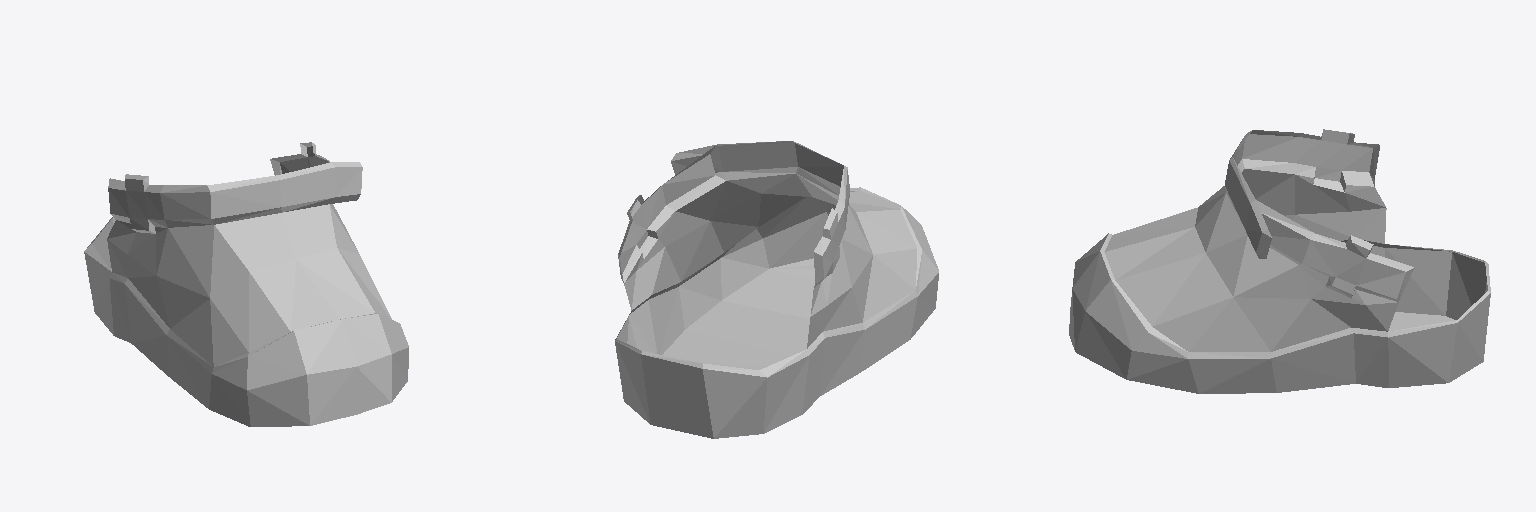
File: hg_foot.obj
3 views of the same model, side by side, from view 1: azimuth 30°, elevation 25°; view 2: azimuth 150°, elevation 25°; view 3: azimuth 270°, elevation 25° (orthographic).
Visible parts, largest first — view 1: studio.helghast_assault_medium.smd.mesh_0.007; view 2: studio.helghast_assault_medium.smd.mesh_0.007; view 3: studio.helghast_assault_medium.smd.mesh_0.007.
Boxes of the visible parts, x1,y1,x2,y2 form: studio.helghast_assault_medium.smd.mesh_0.007: [84, 142, 408, 426]; studio.helghast_assault_medium.smd.mesh_0.007: [615, 141, 938, 438]; studio.helghast_assault_medium.smd.mesh_0.007: [1069, 129, 1490, 393].
Bounding box in the file's own units: 7.3 × 6.78 × 13.18.